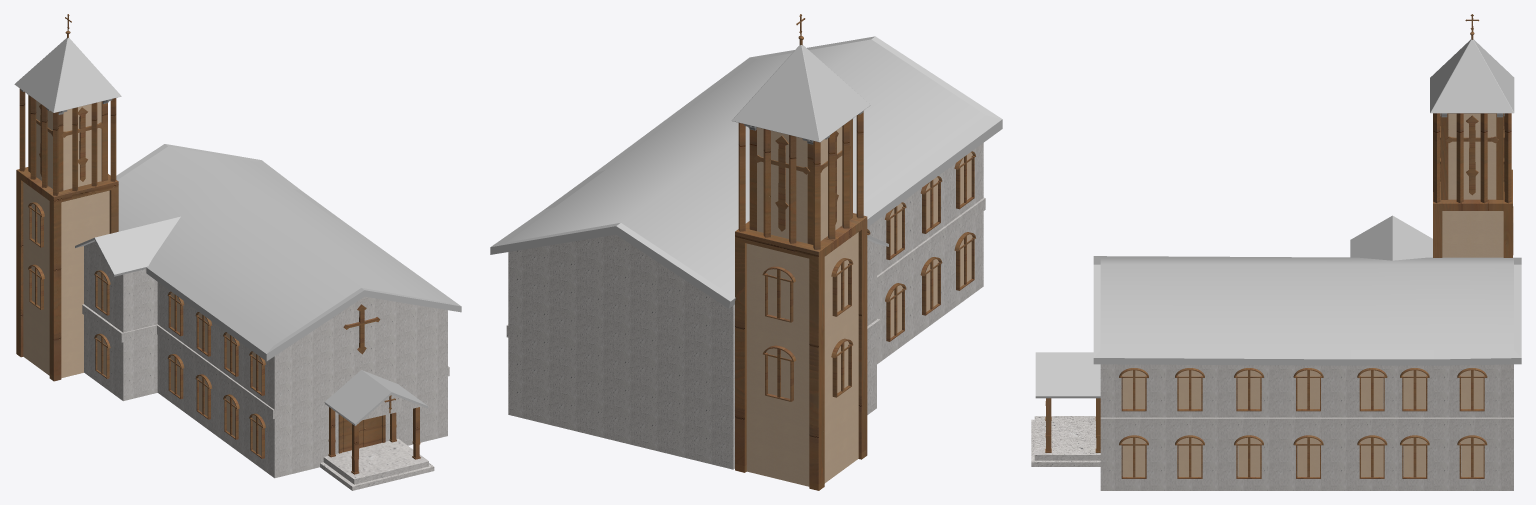
Rendered from Church.FBX.
The picture shows the model from 3 angles, left to right: view 1: azimuth 30°, elevation 25°; view 2: azimuth 150°, elevation 25°; view 3: azimuth 270°, elevation 25°; orthographic projection. The views are drawn at different scales.
Visible parts, largest first — view 1: catib, Box002, Box069, Box001, dikeykolonlar, Pyramid001, catik, catik001, Box068, Line027, Line010, Cylinder011 (+6 smaller); view 2: Box002, catib, Box001, dikeykolonlar, Pyramid001, Box069, Line029, Cylinder003, Cylinder013, Cylinder002, Cylinder012, Cylinder007 (+4 smaller); view 3: catib, Box002, Box069, Box001, Pyramid001, dikeykolonlar, catik001, catik, Line028, Cylinder002, Cylinder004, Cylinder008 (+1 smaller).
Boxes of the visible parts, <box> form: catib: <box>116,144,461,361</box>; Box002: <box>157,282,449,478</box>; Box069: <box>31,204,434,490</box>; Box001: <box>23,101,109,378</box>; dikeykolonlar: <box>16,95,118,381</box>; Pyramid001: <box>14,38,121,112</box>; catik: <box>75,216,180,276</box>; catik001: <box>324,370,428,425</box>; Box068: <box>338,414,385,453</box>; Line027: <box>61,107,104,181</box>; Line010: <box>362,394,421,420</box>; Cylinder011: <box>91,102,97,186</box>; Box002: <box>506,143,985,469</box>; catib: <box>490,36,1002,308</box>; Box001: <box>746,126,858,486</box>; dikeykolonlar: <box>735,119,867,490</box>; Pyramid001: <box>731,45,870,142</box>; Box069: <box>766,152,972,414</box>; Line029: <box>754,135,809,231</box>; Cylinder003: <box>813,141,820,249</box>; Cylinder013: <box>763,129,770,237</box>; Cylinder002: <box>738,123,745,231</box>; Cylinder012: <box>789,135,796,243</box>; Cylinder007: <box>842,121,849,228</box>; catib: <box>1093,256,1521,365</box>; Box002: <box>1100,364,1513,490</box>; Box069: <box>1031,370,1484,476</box>; Box001: <box>1442,113,1503,257</box>; Pyramid001: <box>1430,39,1514,113</box>; dikeykolonlar: <box>1433,113,1512,257</box>; catik001: <box>1035,352,1100,398</box>; catik: <box>1350,215,1432,260</box>; Line028: <box>1446,115,1498,195</box>; Cylinder002: <box>1504,113,1511,203</box>; Cylinder004: <box>1433,113,1440,202</box>; Cylinder008: <box>1480,113,1487,202</box>.
Bounding box in the file's own units: 15.29 × 24.2 × 20.16.
